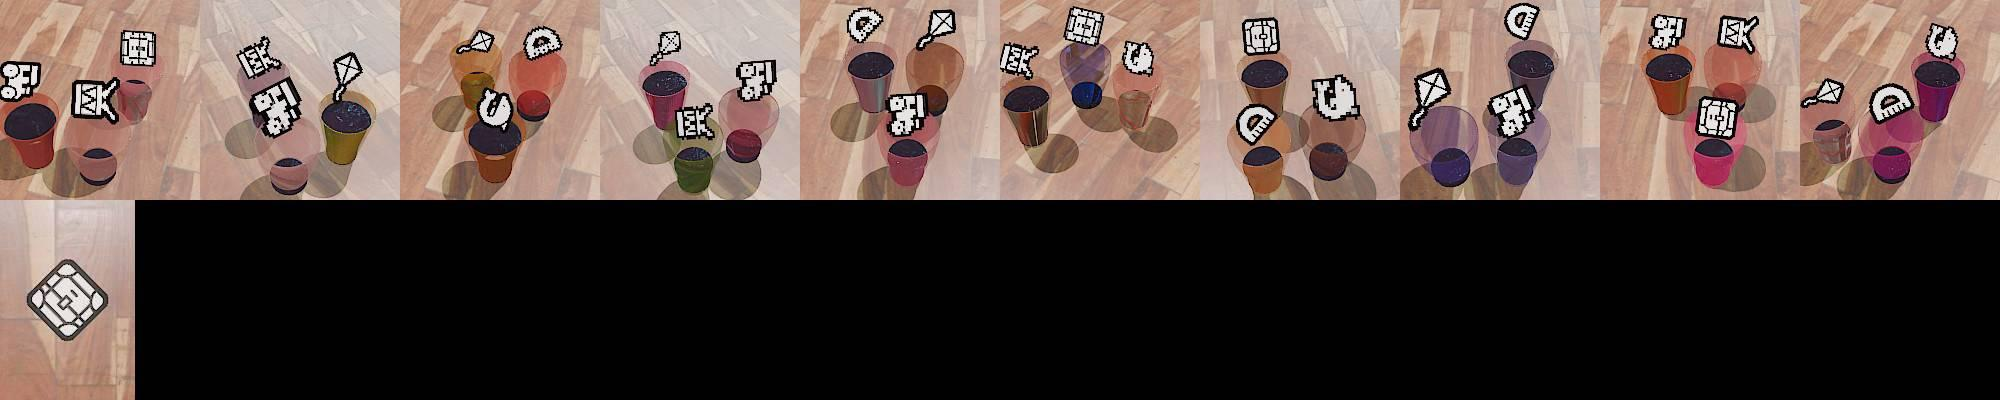icon: (27, 259, 108, 341), (249, 76, 305, 138), (1487, 84, 1538, 139), (1408, 68, 1452, 130), (1310, 74, 1360, 124), (70, 78, 121, 122), (1695, 96, 1742, 141), (235, 36, 279, 82), (884, 92, 927, 139), (1867, 83, 1913, 125), (735, 59, 777, 103), (1235, 102, 1277, 145), (1062, 5, 1106, 47), (913, 9, 957, 51), (0, 60, 42, 102), (1716, 15, 1759, 55), (329, 51, 364, 99), (476, 85, 514, 127), (675, 102, 717, 140), (1648, 13, 1687, 51), (1242, 18, 1281, 57), (522, 25, 564, 61), (119, 29, 157, 68), (846, 6, 884, 45), (999, 42, 1038, 79), (1504, 3, 1541, 41), (1802, 78, 1844, 108), (1925, 22, 1958, 60), (648, 31, 681, 68), (1121, 41, 1154, 76), (458, 29, 495, 55)
